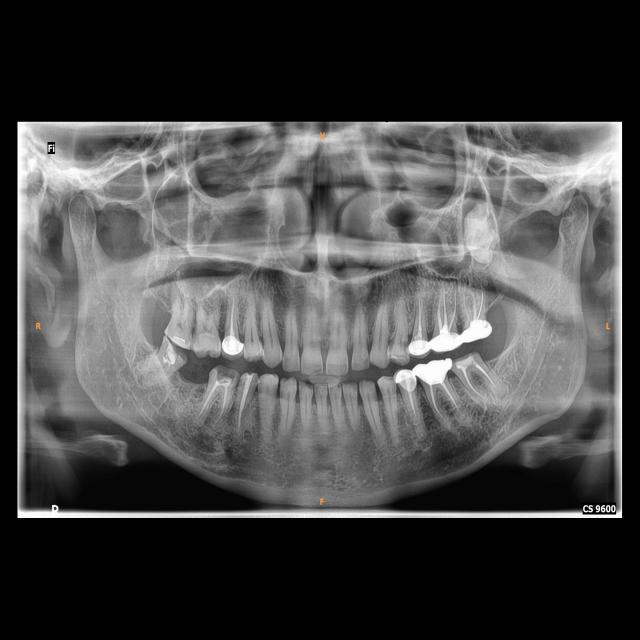dentin-curugu: (212, 364, 240, 386)
dolgu: (167, 330, 191, 350), (456, 354, 480, 372)
kanal-tedavisi: (428, 382, 458, 419), (434, 292, 459, 332), (464, 368, 495, 398), (203, 387, 229, 422), (463, 287, 484, 320), (407, 387, 421, 426), (237, 385, 250, 422), (413, 300, 425, 339), (226, 299, 238, 336)
kaplama: (416, 359, 456, 384), (461, 321, 493, 343), (431, 330, 460, 353), (394, 369, 420, 391), (222, 334, 246, 356), (408, 340, 430, 356)
